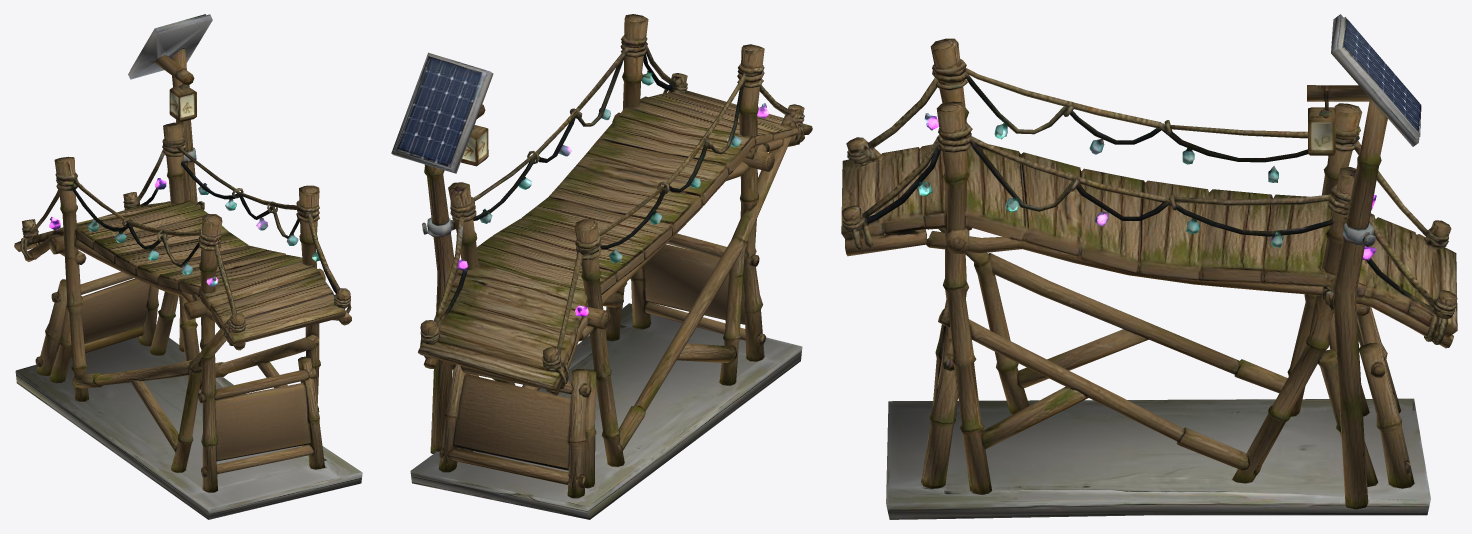
Rendered from bamboo_footbridge.glb.
3 renders of one model, left to right at view 1: azimuth 30°, elevation 25°; view 2: azimuth 150°, elevation 25°; view 3: azimuth 270°, elevation 25°, orthographic. The views are drawn at different scales.
Parts seen in each view (by area): view 1: Body; view 2: Body; view 3: Body.
Part boxes in pixels (box(x1,y1,x2,y2)): Body: box(14, 14, 362, 519); Body: box(391, 14, 812, 519); Body: box(841, 14, 1457, 519).
Bounding box in the file's own units: 2.5 × 4.88 × 5.68.
Materials: 2 (2 with a texture image).
